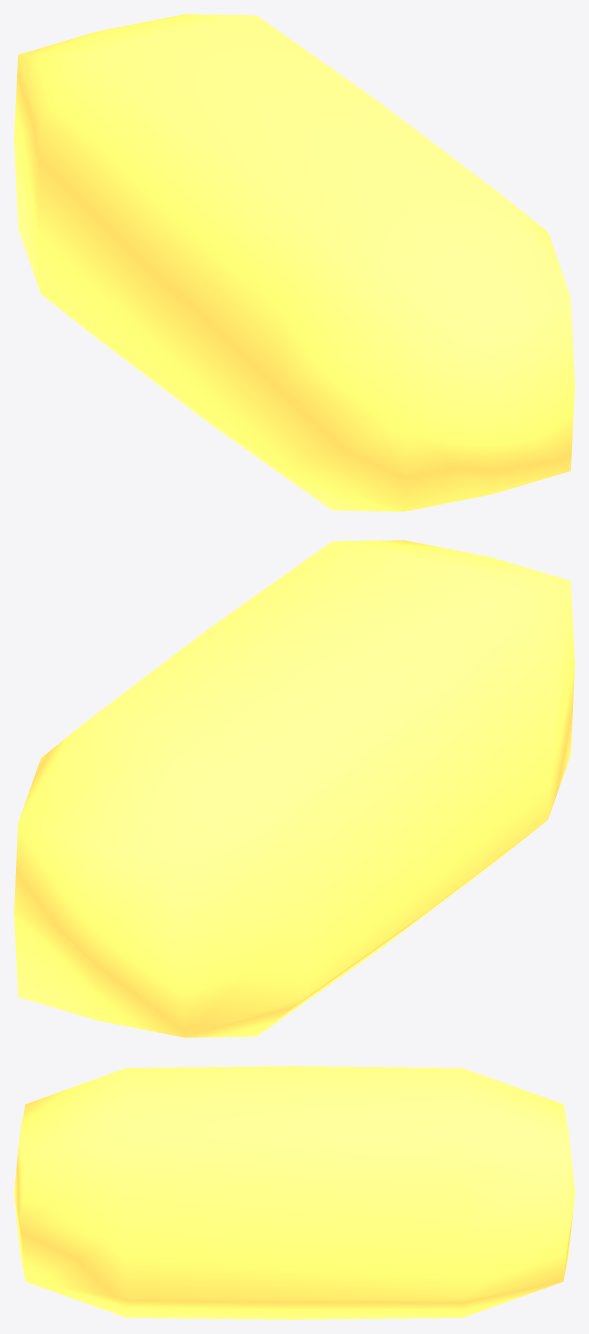
Rendered from ship_bullet.glb.
3 views of the same model, one above another, from view 1: azimuth 30°, elevation 25°; view 2: azimuth 150°, elevation 25°; view 3: azimuth 270°, elevation 25° (orthographic). The views are drawn at different scales.
Parts seen in each view (by area): view 1: bullet; view 2: bullet; view 3: bullet.
Part boxes in pixels (left/top/right/bottom): bullet: left=14, top=14, right=574, bottom=511; bullet: left=14, top=540, right=574, bottom=1037; bullet: left=14, top=1066, right=574, bottom=1319.
Size of the model in its own units: 0.3203 by 0.3203 by 0.8079.
Materials: 1 (1 with a texture image).
